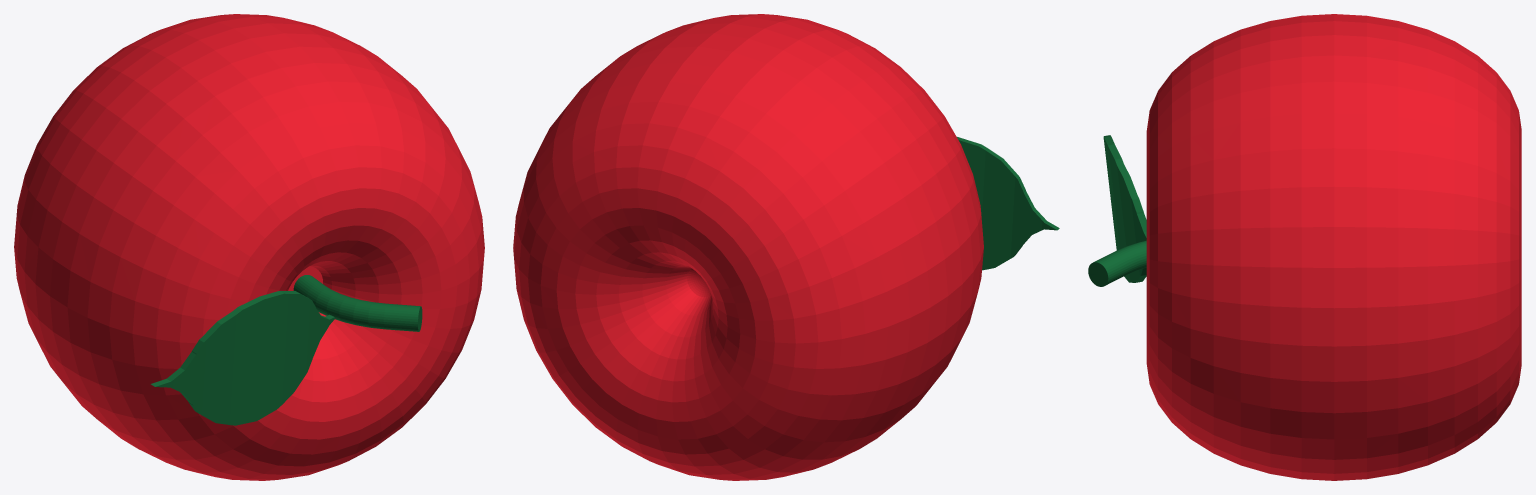
File: tinker.obj
The picture shows the model from 3 angles, left to right: view 1: azimuth 30°, elevation 25°; view 2: azimuth 150°, elevation 25°; view 3: azimuth 270°, elevation 25°; orthographic projection.
Visible parts, largest first — view 1: group_0_15277357, group_0_1206582; view 2: group_0_15277357, group_0_1206582; view 3: group_0_15277357, group_0_1206582.
Part boxes in pixels (x1,y1,x2,y2): group_0_15277357: [14, 14, 484, 480]; group_0_1206582: [151, 275, 422, 425]; group_0_15277357: [513, 14, 983, 480]; group_0_1206582: [957, 137, 1059, 270]; group_0_15277357: [1146, 14, 1521, 480]; group_0_1206582: [1088, 135, 1146, 286].
Bounding box in the file's own units: 20.22 × 20 × 18.5.
